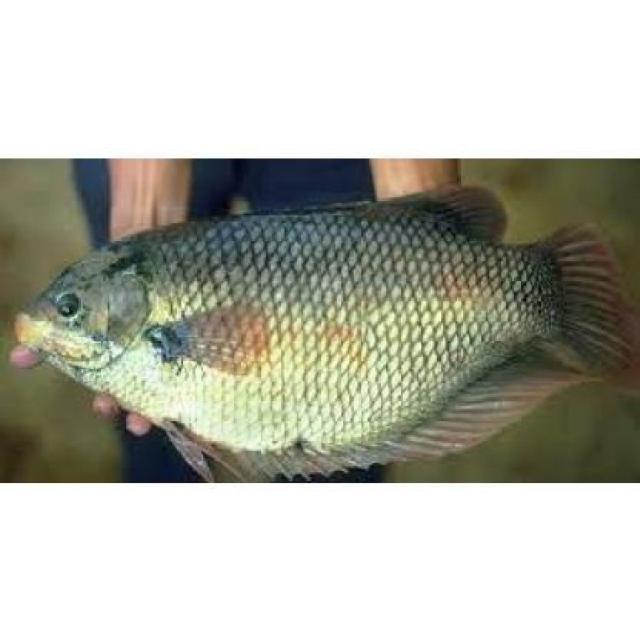gurame: (16, 206, 627, 468)
